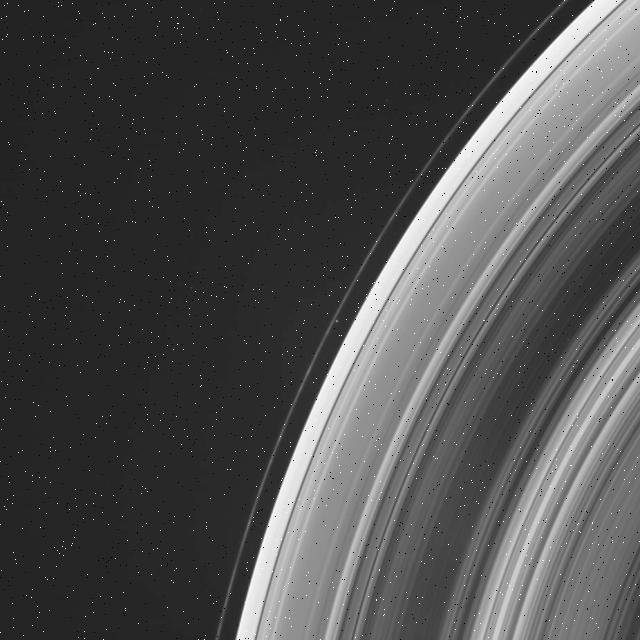Saturn: (208, 0, 640, 640)
